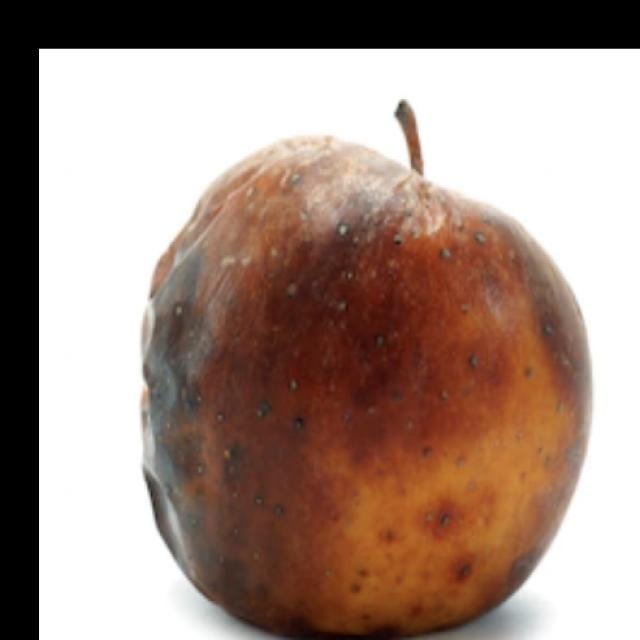Rotten: (140, 143, 588, 640)
